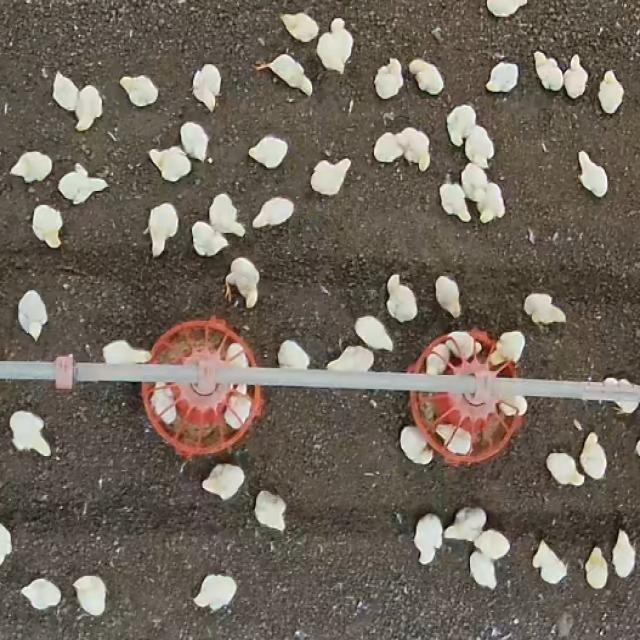broiler: (259, 53, 311, 95), (316, 18, 352, 73), (58, 165, 108, 204), (10, 410, 50, 455), (225, 258, 259, 308), (147, 204, 177, 257), (193, 574, 237, 609), (386, 273, 417, 322), (202, 463, 244, 499), (460, 163, 491, 211), (149, 146, 191, 181), (209, 194, 244, 236), (18, 290, 47, 340), (413, 513, 442, 563), (444, 508, 486, 541), (533, 541, 566, 583), (311, 159, 349, 195), (523, 293, 565, 325), (578, 151, 607, 197), (10, 151, 51, 183), (192, 64, 220, 110), (73, 576, 106, 615), (408, 59, 443, 95), (33, 205, 62, 248), (579, 432, 606, 478), (355, 317, 392, 350), (249, 135, 287, 167), (400, 425, 432, 463), (546, 453, 584, 485), (21, 579, 61, 609), (253, 197, 293, 227), (255, 491, 285, 531), (447, 105, 476, 146), (465, 125, 493, 167), (75, 85, 101, 130), (192, 222, 227, 255), (327, 346, 373, 371), (120, 75, 157, 106), (402, 128, 429, 170), (374, 59, 402, 99), (440, 183, 470, 220), (180, 121, 208, 160), (597, 71, 623, 113), (476, 183, 504, 222), (474, 530, 509, 561), (612, 530, 635, 577), (281, 13, 318, 42), (534, 52, 563, 89), (102, 340, 148, 363), (563, 54, 587, 98), (373, 132, 408, 162), (435, 276, 460, 318), (52, 73, 78, 110), (486, 61, 517, 92), (585, 547, 607, 588), (470, 549, 493, 588), (278, 340, 308, 368), (486, 0, 526, 17), (614, 400, 639, 413), (605, 378, 630, 383)
pipe: (67, 363, 639, 399), (0, 361, 64, 385)
rice: (140, 375, 261, 457), (410, 390, 526, 464), (407, 330, 515, 378), (148, 319, 254, 365)
